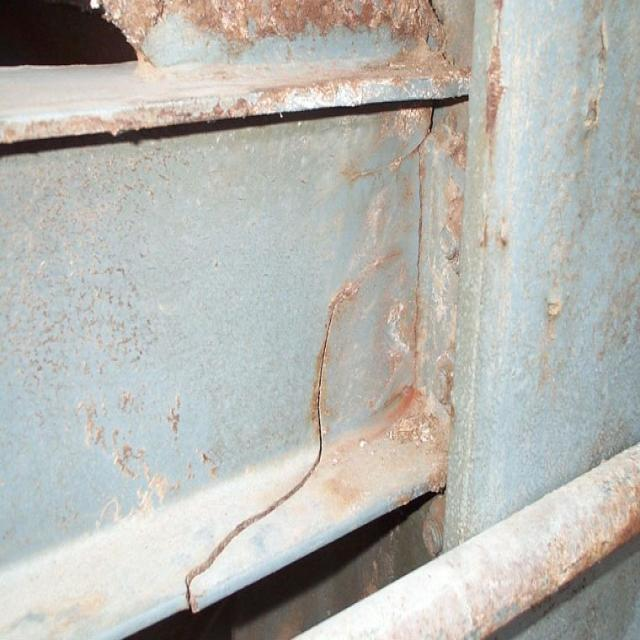Crack: (185, 287, 351, 613), (356, 105, 441, 180)
